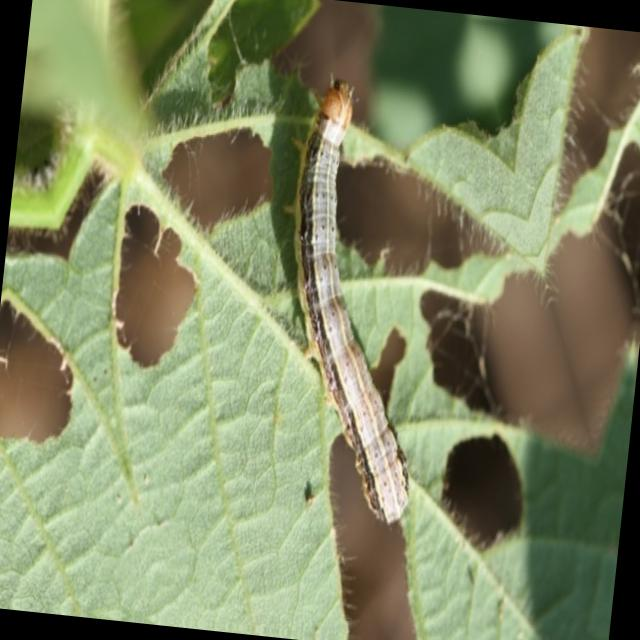Armyworm: (265, 65, 458, 555)
Armyworm_damage: (411, 400, 550, 584), (93, 173, 206, 378), (154, 91, 282, 255)
